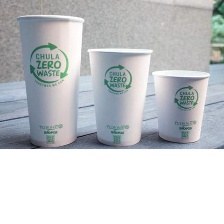paper_cup: (12, 9, 88, 148), (83, 41, 155, 148), (149, 65, 214, 147)
